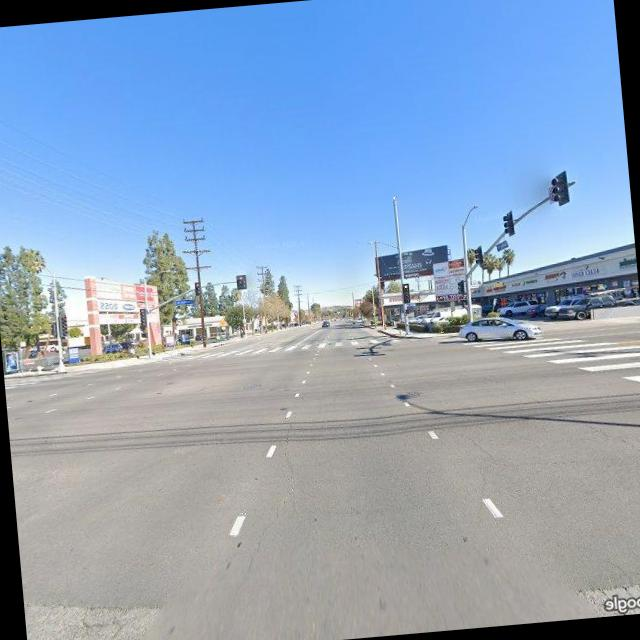pothole: (234, 395, 324, 562), (464, 429, 499, 462)
